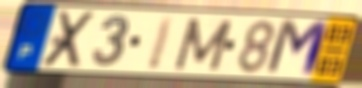3: (90, 13, 132, 70)
8: (235, 19, 277, 75)
I: (144, 14, 178, 72)
M: (262, 17, 333, 80), (171, 16, 236, 73)
X: (38, 10, 100, 69)
